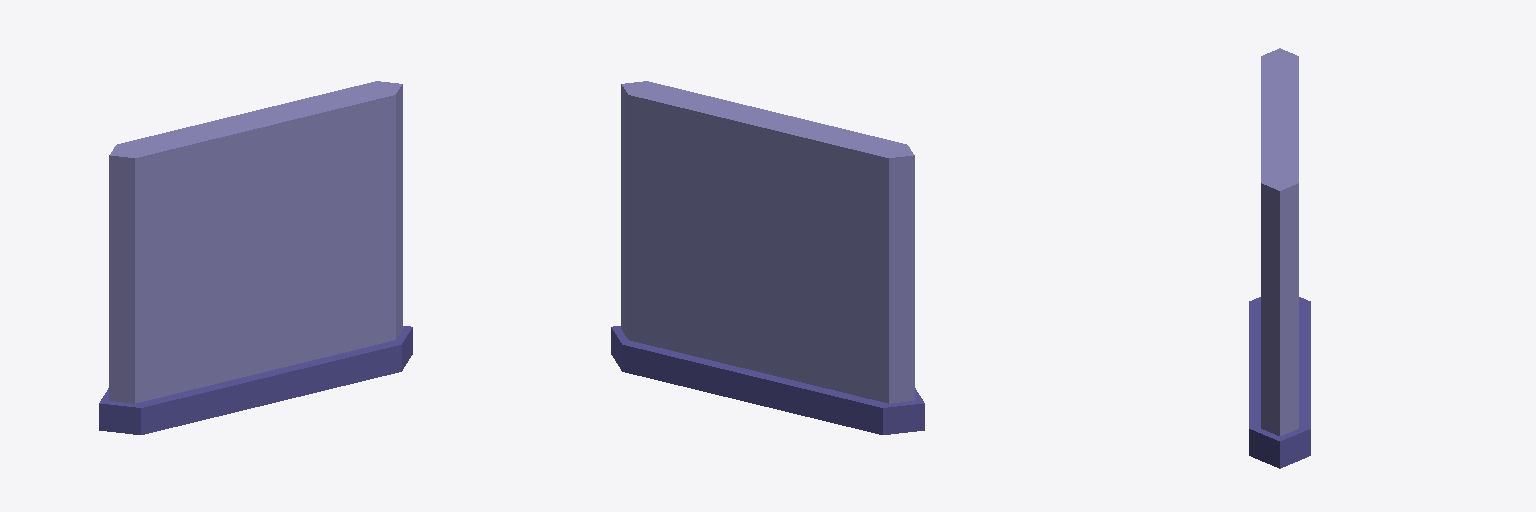
Rendered from Wall1Model.obj.
3 renders of one model, left to right at view 1: azimuth 30°, elevation 25°; view 2: azimuth 150°, elevation 25°; view 3: azimuth 270°, elevation 25°, orthographic.
Visible parts, largest first — view 1: mergedBlocks; view 2: mergedBlocks; view 3: mergedBlocks.
Boxes of the visible parts, box(x1,y1,x2,y2) form: mergedBlocks: box(99, 81, 412, 434); mergedBlocks: box(611, 81, 924, 434); mergedBlocks: box(1249, 48, 1310, 468).
Size of the model in its own units: 1.21 by 1 by 0.205.